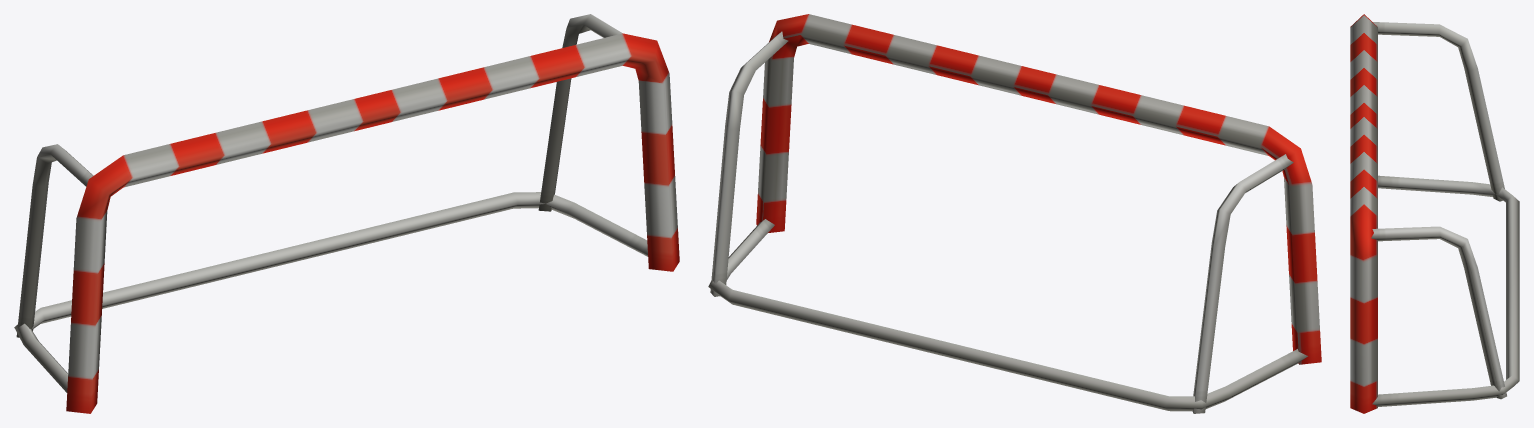
File: Block_QiuMen.FBX
The picture shows the model from 3 angles, left to right: view 1: azimuth 30°, elevation 25°; view 2: azimuth 150°, elevation 25°; view 3: azimuth 270°, elevation 25°; orthographic projection. The views are drawn at different scales.
Parts seen in each view (by area): view 1: Block_QiuMen; view 2: Block_QiuMen; view 3: Block_QiuMen.
Part boxes in pixels (left/top/right/bottom): Block_QiuMen: left=14, top=14, right=679, bottom=413; Block_QiuMen: left=708, top=14, right=1321, bottom=413; Block_QiuMen: left=1350, top=14, right=1519, bottom=413.
Size of the model in its own units: 793 by 299 by 244.
